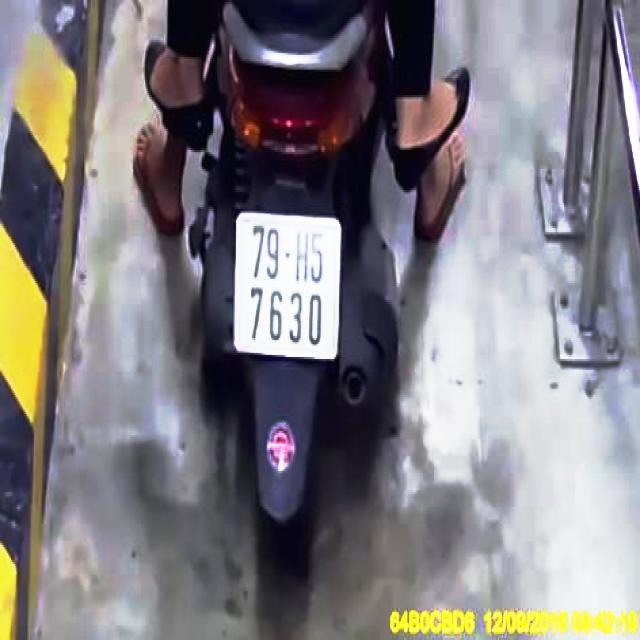license_plate: (238, 217, 343, 359)
